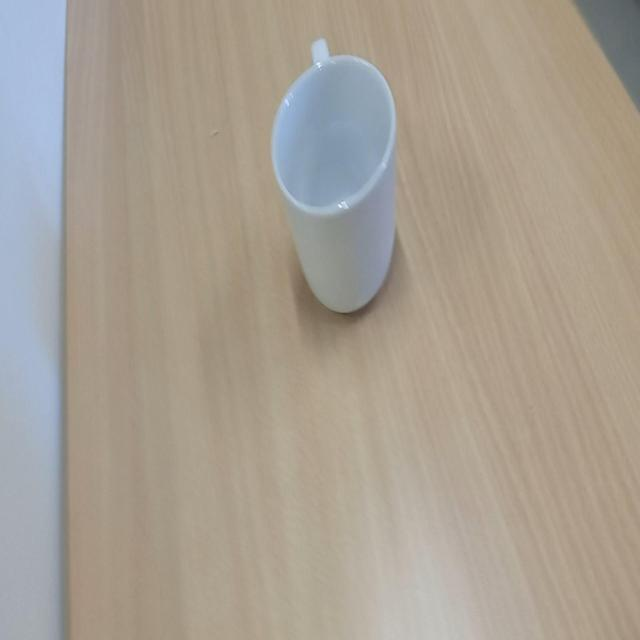cup: (268, 31, 415, 332)
